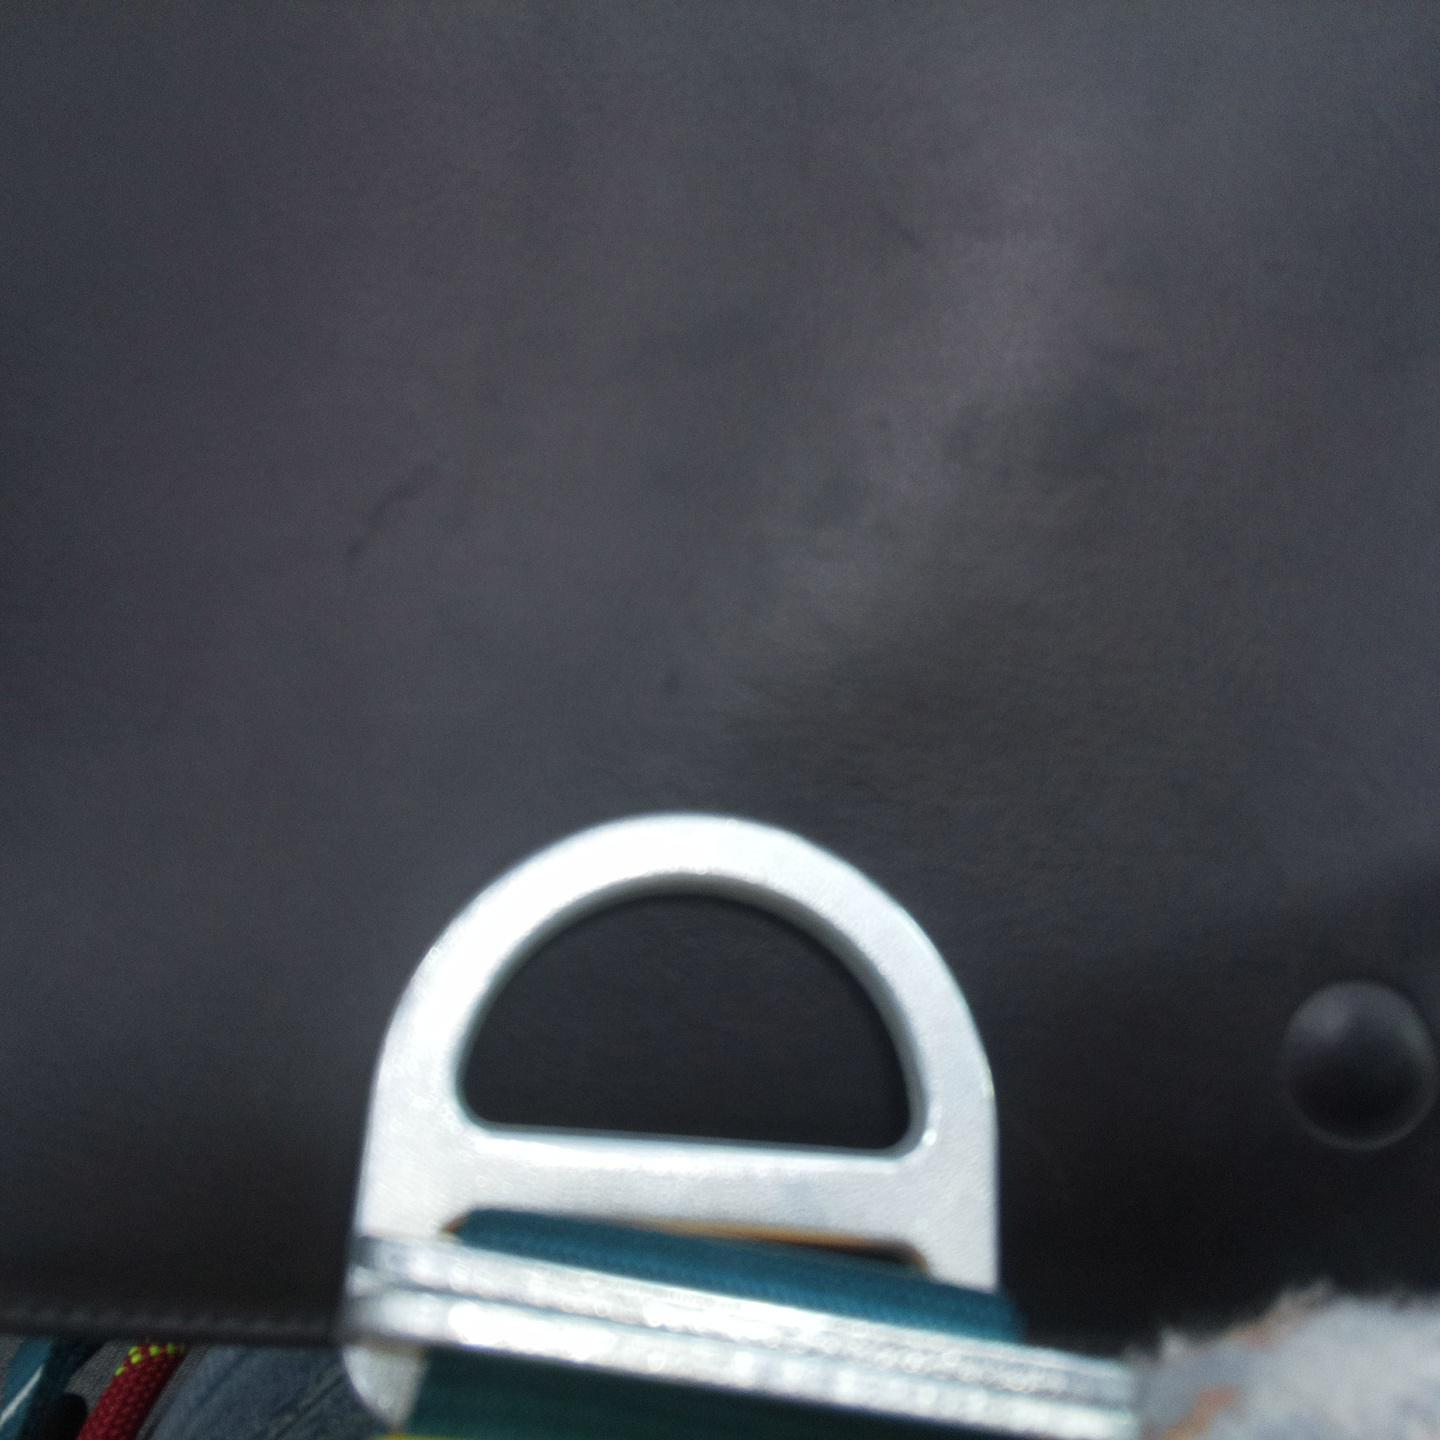UNSUCCESS: (339, 808, 1015, 1296)
